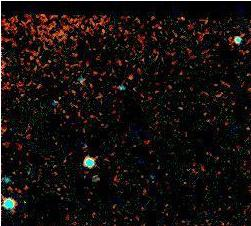star: (115, 62, 145, 92)
